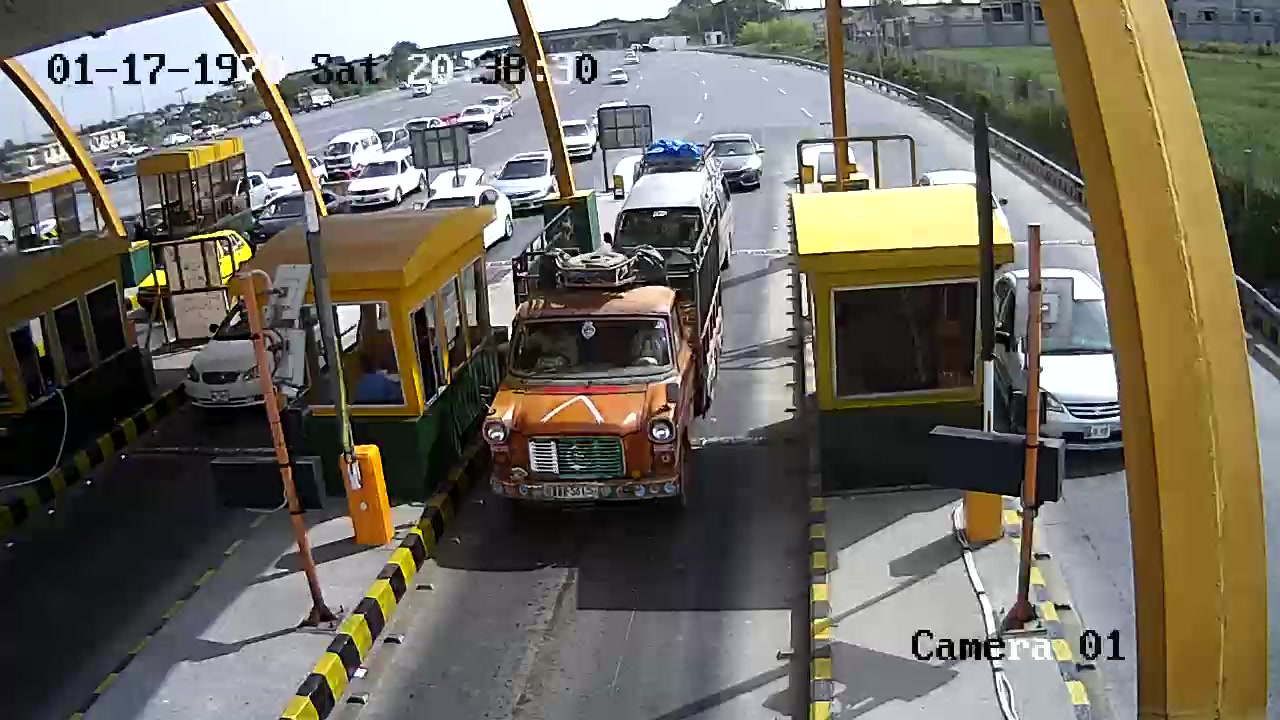F2: (469, 202, 732, 558)
